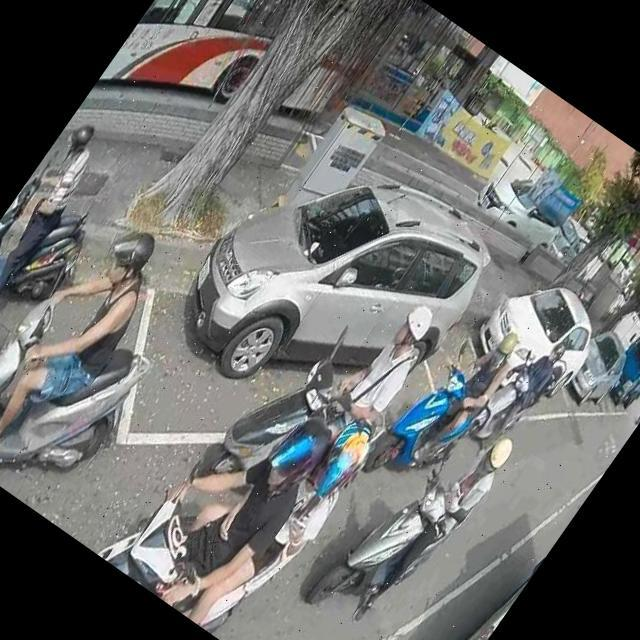person: (110, 365, 347, 632), (153, 378, 379, 640), (0, 199, 186, 484), (342, 410, 522, 640), (0, 111, 118, 346), (306, 289, 448, 459), (396, 305, 533, 474), (471, 334, 574, 462)
